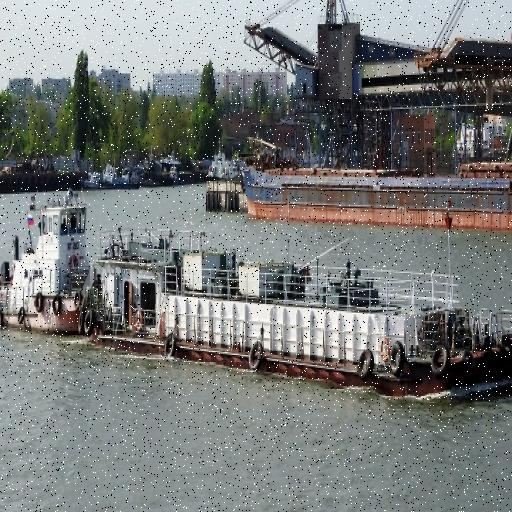tugboat: (1, 186, 102, 349)
